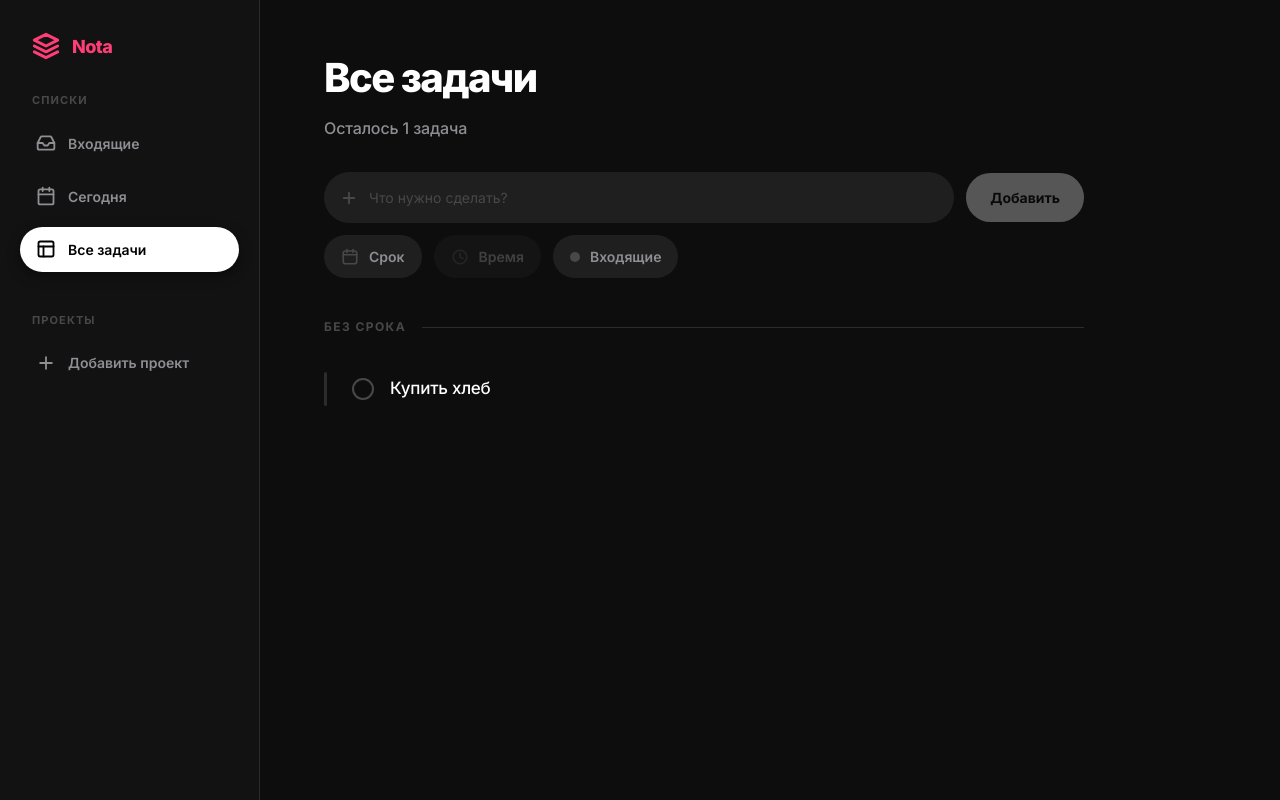
Test case: отметка выполнения › показывает попап с возвратом и возвращает задачу в ленту
Click the checkbox named "Купить хлеб".
click(363, 389)  # box [352,378,374,400]
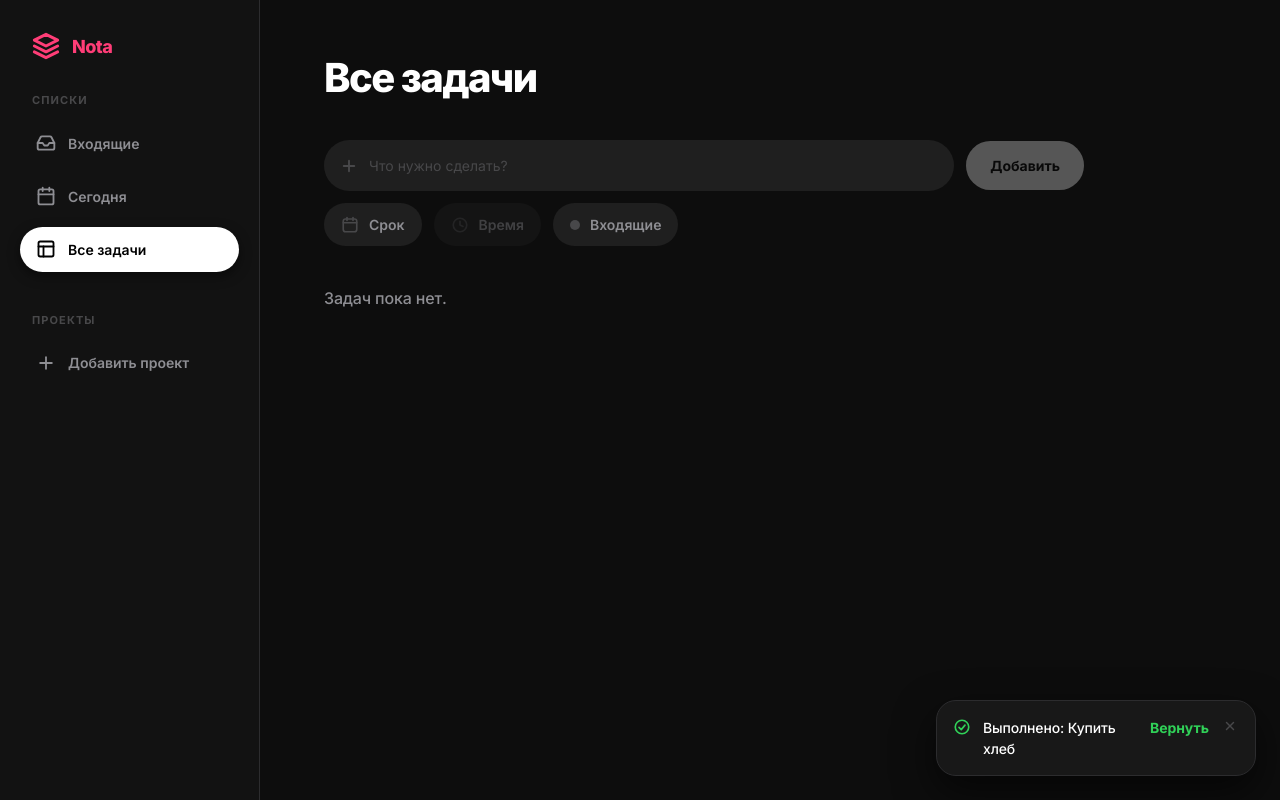
Now the text "Выполнено: Купить хлеб" is shown, box [983,719,1116,757]
Click the button "Вернуть".
click(1179, 728)  # box [1150,717,1209,738]
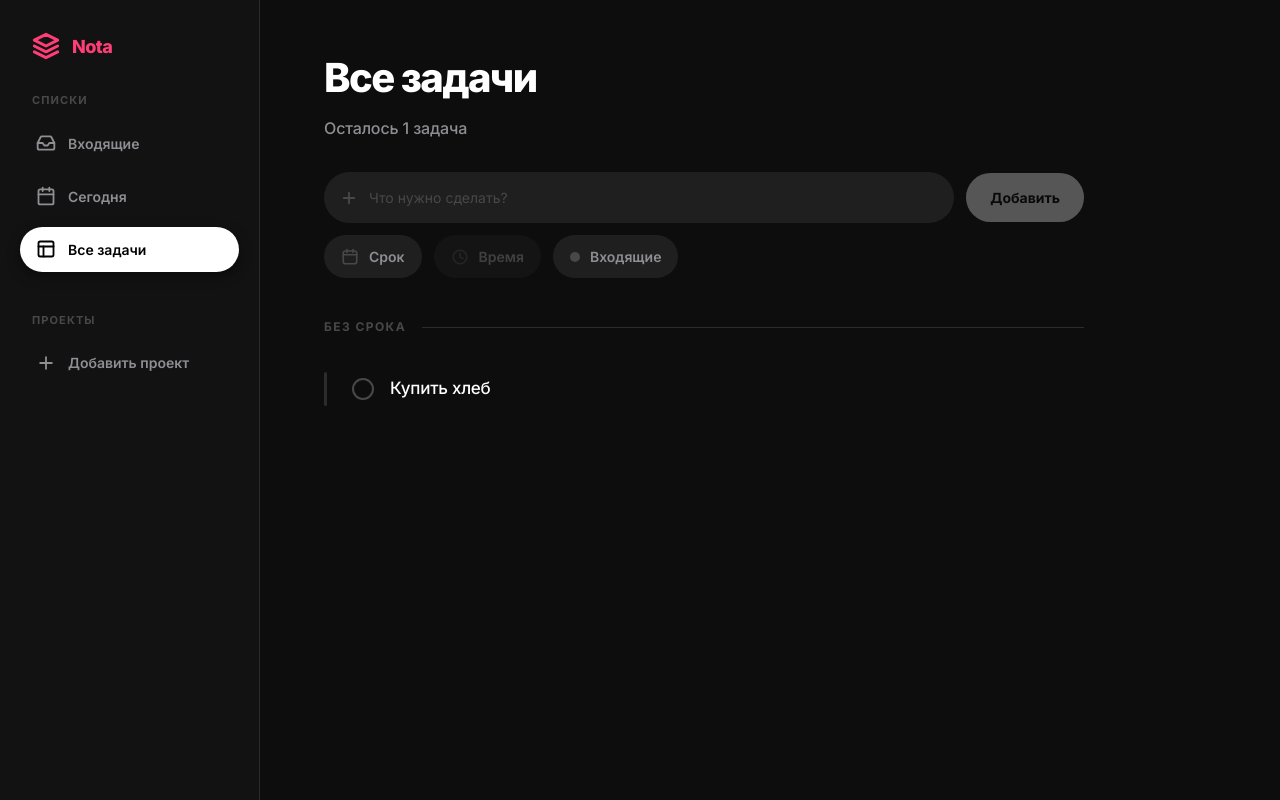
Now the checkbox named "Купить хлеб" is not checked, box [352,378,374,400]
Now the text "Выполнено: Купить хлеб" is gone
